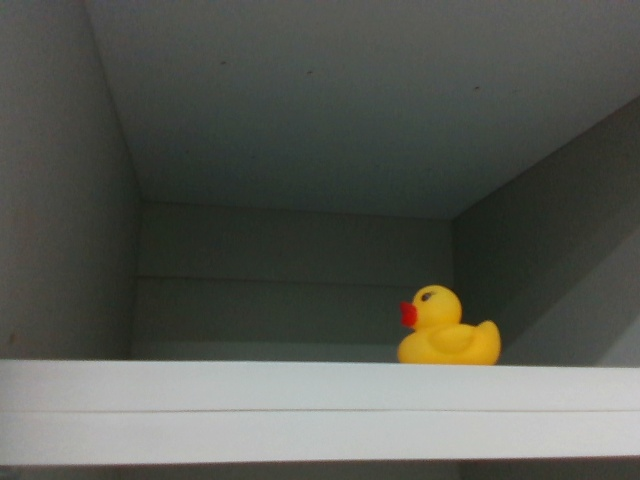duck: (395, 283, 505, 368)
